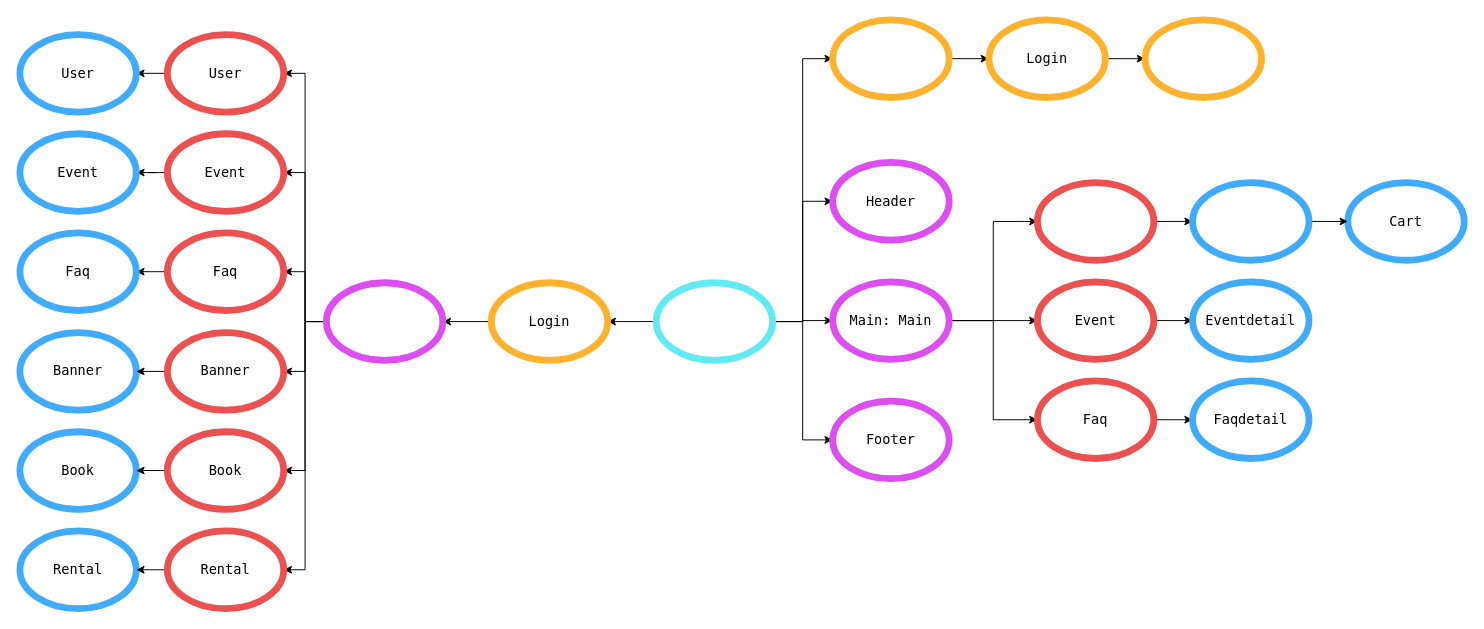
Some shapes in this 1484 by 629 pixel diagram are drawn without their labels. Each missing label, with the box of its shape:
Admin: Main: (323, 279, 446, 363)
App.js: (652, 279, 776, 363)
Bookdetail: (1189, 179, 1312, 263)
Booklist: (1034, 179, 1157, 263)
Join: (829, 16, 952, 100)
Mypage: (1141, 16, 1264, 100)
